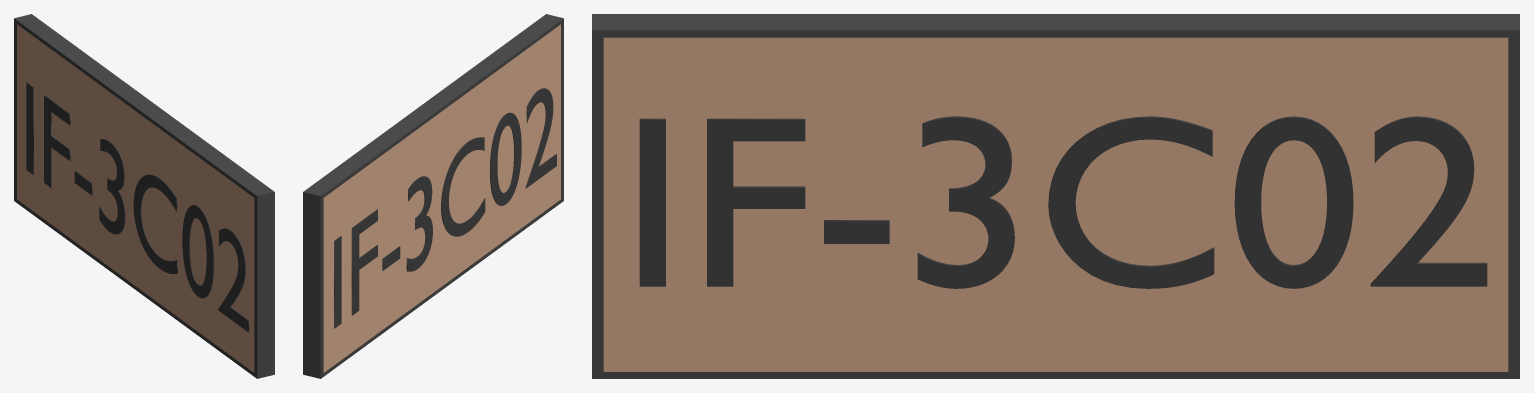
3 renders of one model, left to right at view 1: azimuth 30°, elevation 25°; view 2: azimuth 150°, elevation 25°; view 3: azimuth 270°, elevation 25°, orthographic. The views are drawn at different scales.
Visible parts, largest first — view 1: Cube; view 2: Cube; view 3: Cube.
Part boxes in pixels (box(x1,y1,x2,y2)): Cube: box(14, 14, 274, 378); Cube: box(303, 14, 563, 378); Cube: box(592, 14, 1519, 378).
Size of the model in its own units: 11.57 by 102 by 247.
